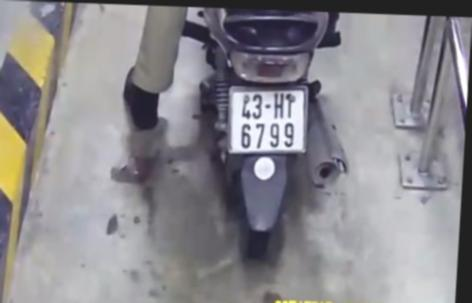License_Plate: (214, 77, 315, 165)
